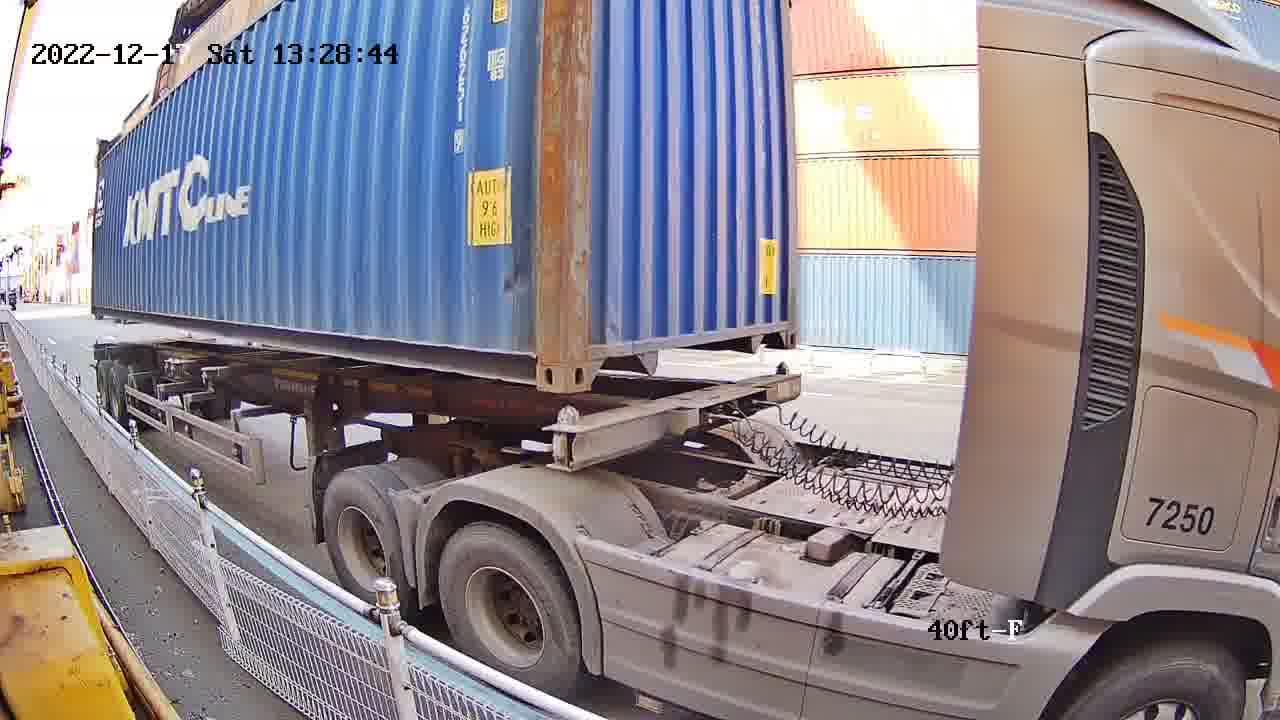Chassis: (571, 373, 801, 466)
Cone: (542, 405, 576, 463), (771, 359, 797, 387)
Hole_L: (562, 327, 617, 390)
Hole_R: (501, 326, 564, 387), (766, 300, 801, 352)
Tire: (437, 523, 578, 690), (323, 473, 399, 597)
